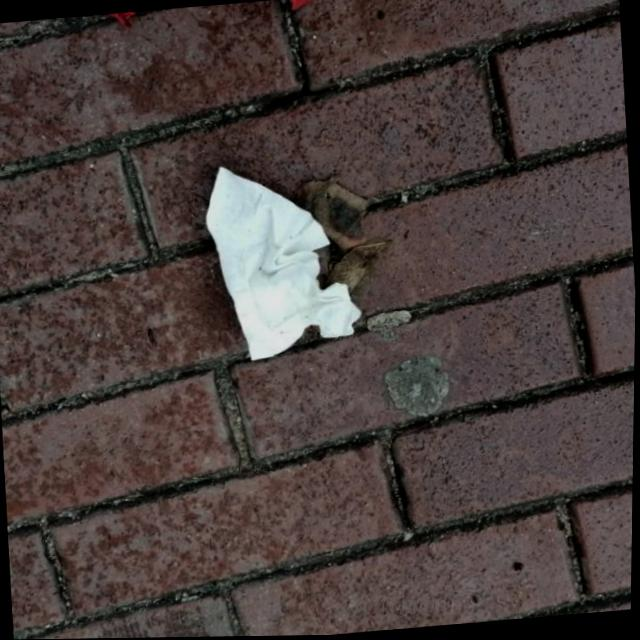Paper: (196, 152, 370, 367)
